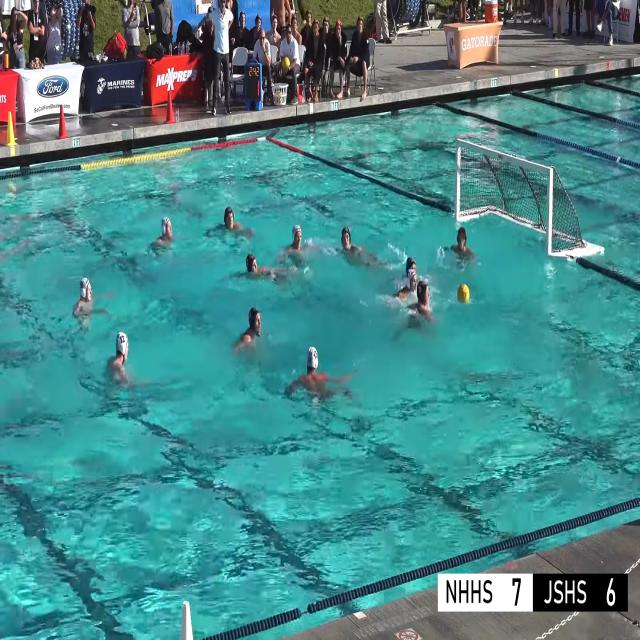ball: (457, 284, 470, 304), (282, 57, 290, 68)
